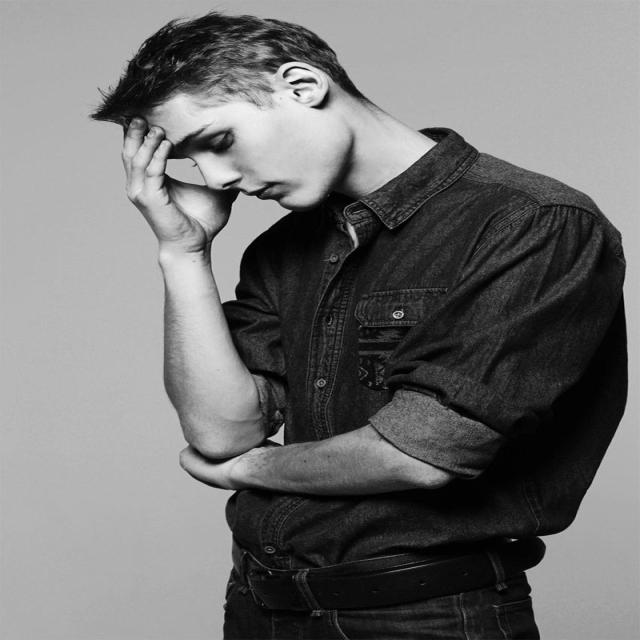front: (154, 119, 330, 228)
